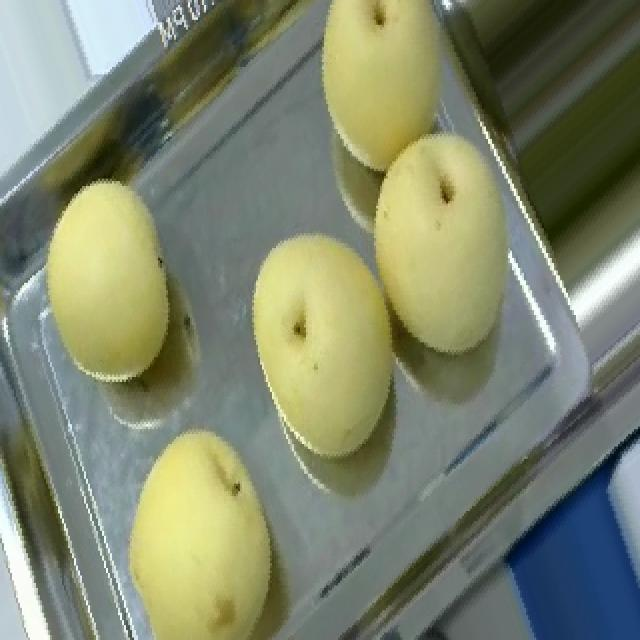Fruit: (330, 102, 548, 377), (224, 208, 418, 479), (100, 402, 308, 640), (18, 164, 200, 404), (290, 0, 480, 191)
